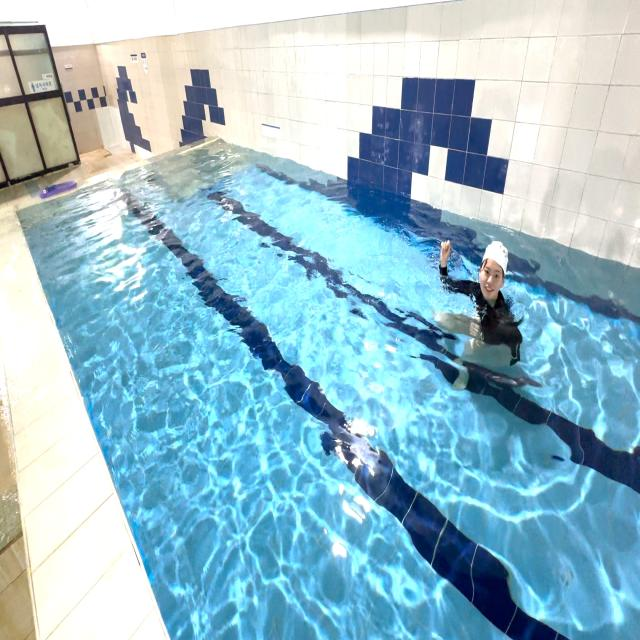Swimming: (416, 207, 551, 442)
